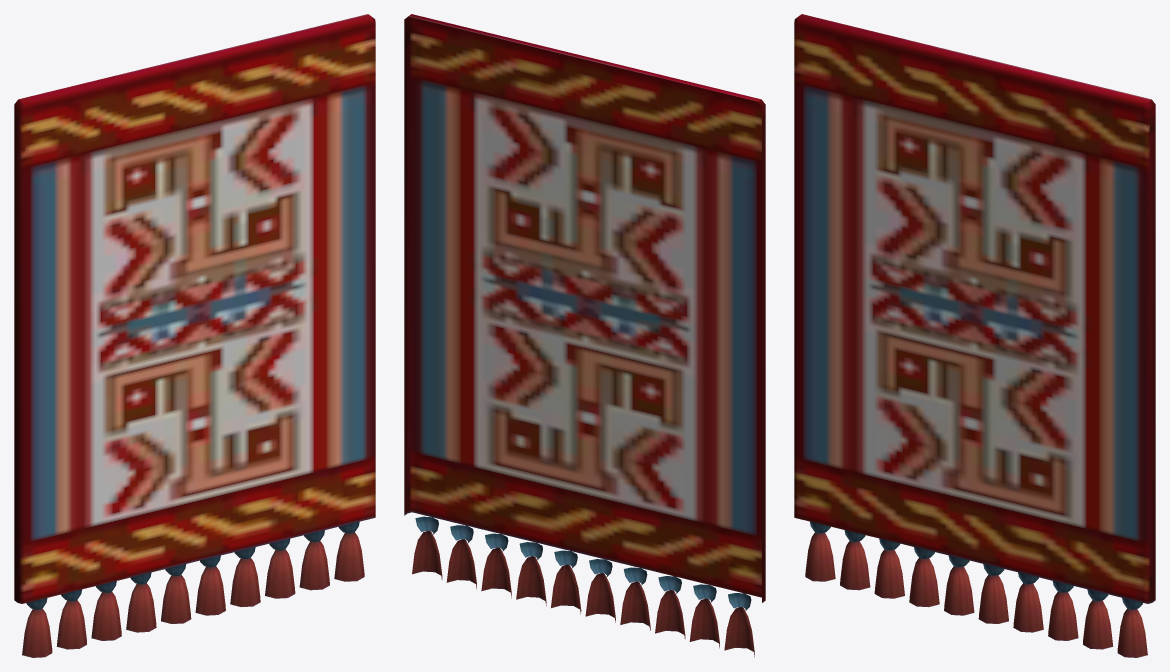
Rendered from int_jhn_tapestry.dae.
3 renders of one model, left to right at view 1: azimuth 30°, elevation 25°; view 2: azimuth 150°, elevation 25°; view 3: azimuth 330°, elevation 25°, orthographic.
Visible parts, largest first — view 1: int_jhn_tapestry; view 2: int_jhn_tapestry; view 3: int_jhn_tapestry.
Part boxes in pixels (x1=…): int_jhn_tapestry: x1=14, y1=14, x2=375, y2=657; int_jhn_tapestry: x1=404, y1=14, x2=765, y2=657; int_jhn_tapestry: x1=794, y1=14, x2=1155, y2=657.
Bounding box in the file's own units: 25.77 × 38.33 × 0.9938.
1 material, 1 textured.
